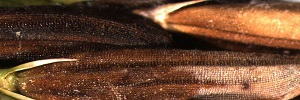RiceSheathBrownRot: (1, 49, 296, 98)
